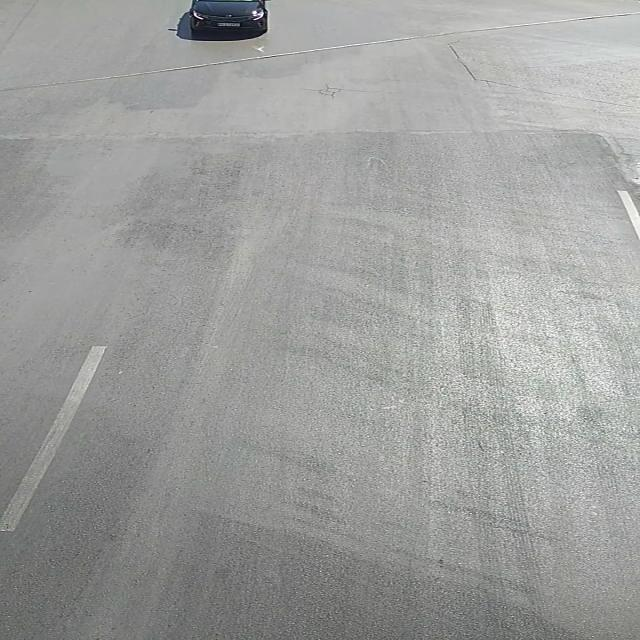car: (186, 1, 268, 33)
